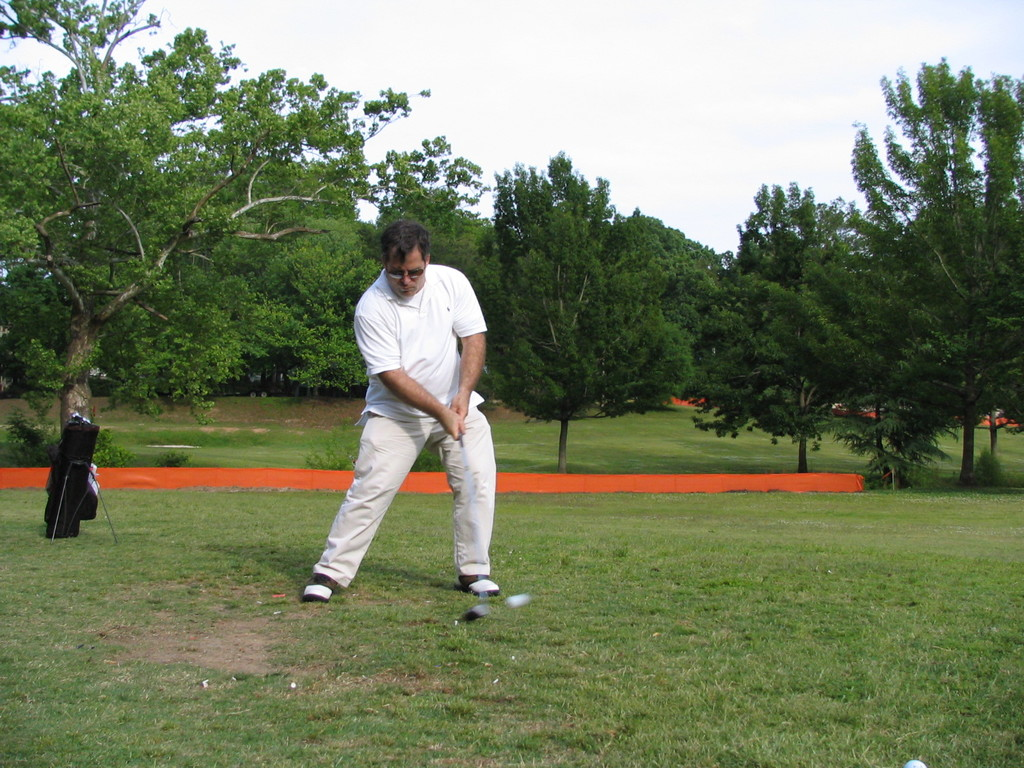Tree: (0, 0, 433, 440), (828, 44, 1011, 506), (463, 144, 703, 476), (686, 184, 878, 479), (250, 224, 376, 392), (350, 248, 527, 351), (371, 180, 512, 262), (347, 136, 495, 214), (624, 210, 727, 284)
